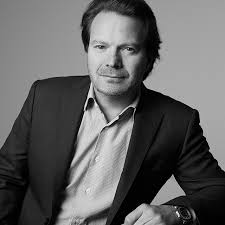middle_eastern_male: (84, 6, 152, 93)
